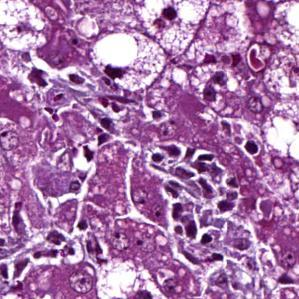ballooning: (86, 29, 175, 94), (129, 6, 214, 58), (93, 253, 168, 296), (4, 2, 52, 56)
